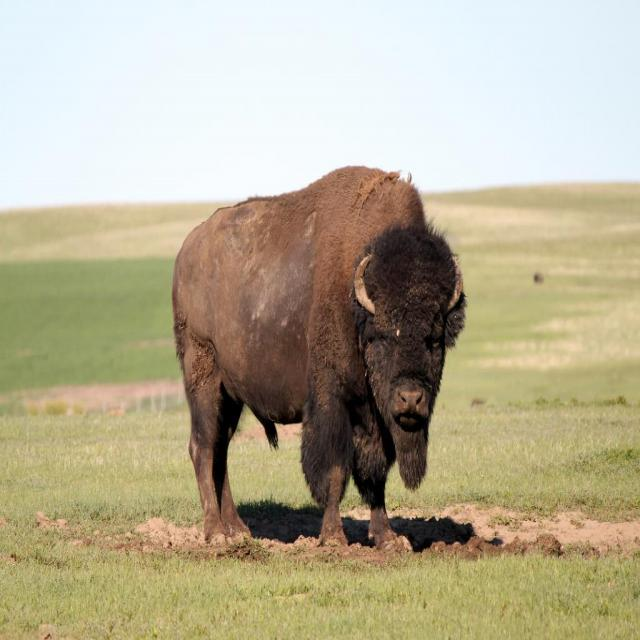Bull: (172, 164, 469, 552)
